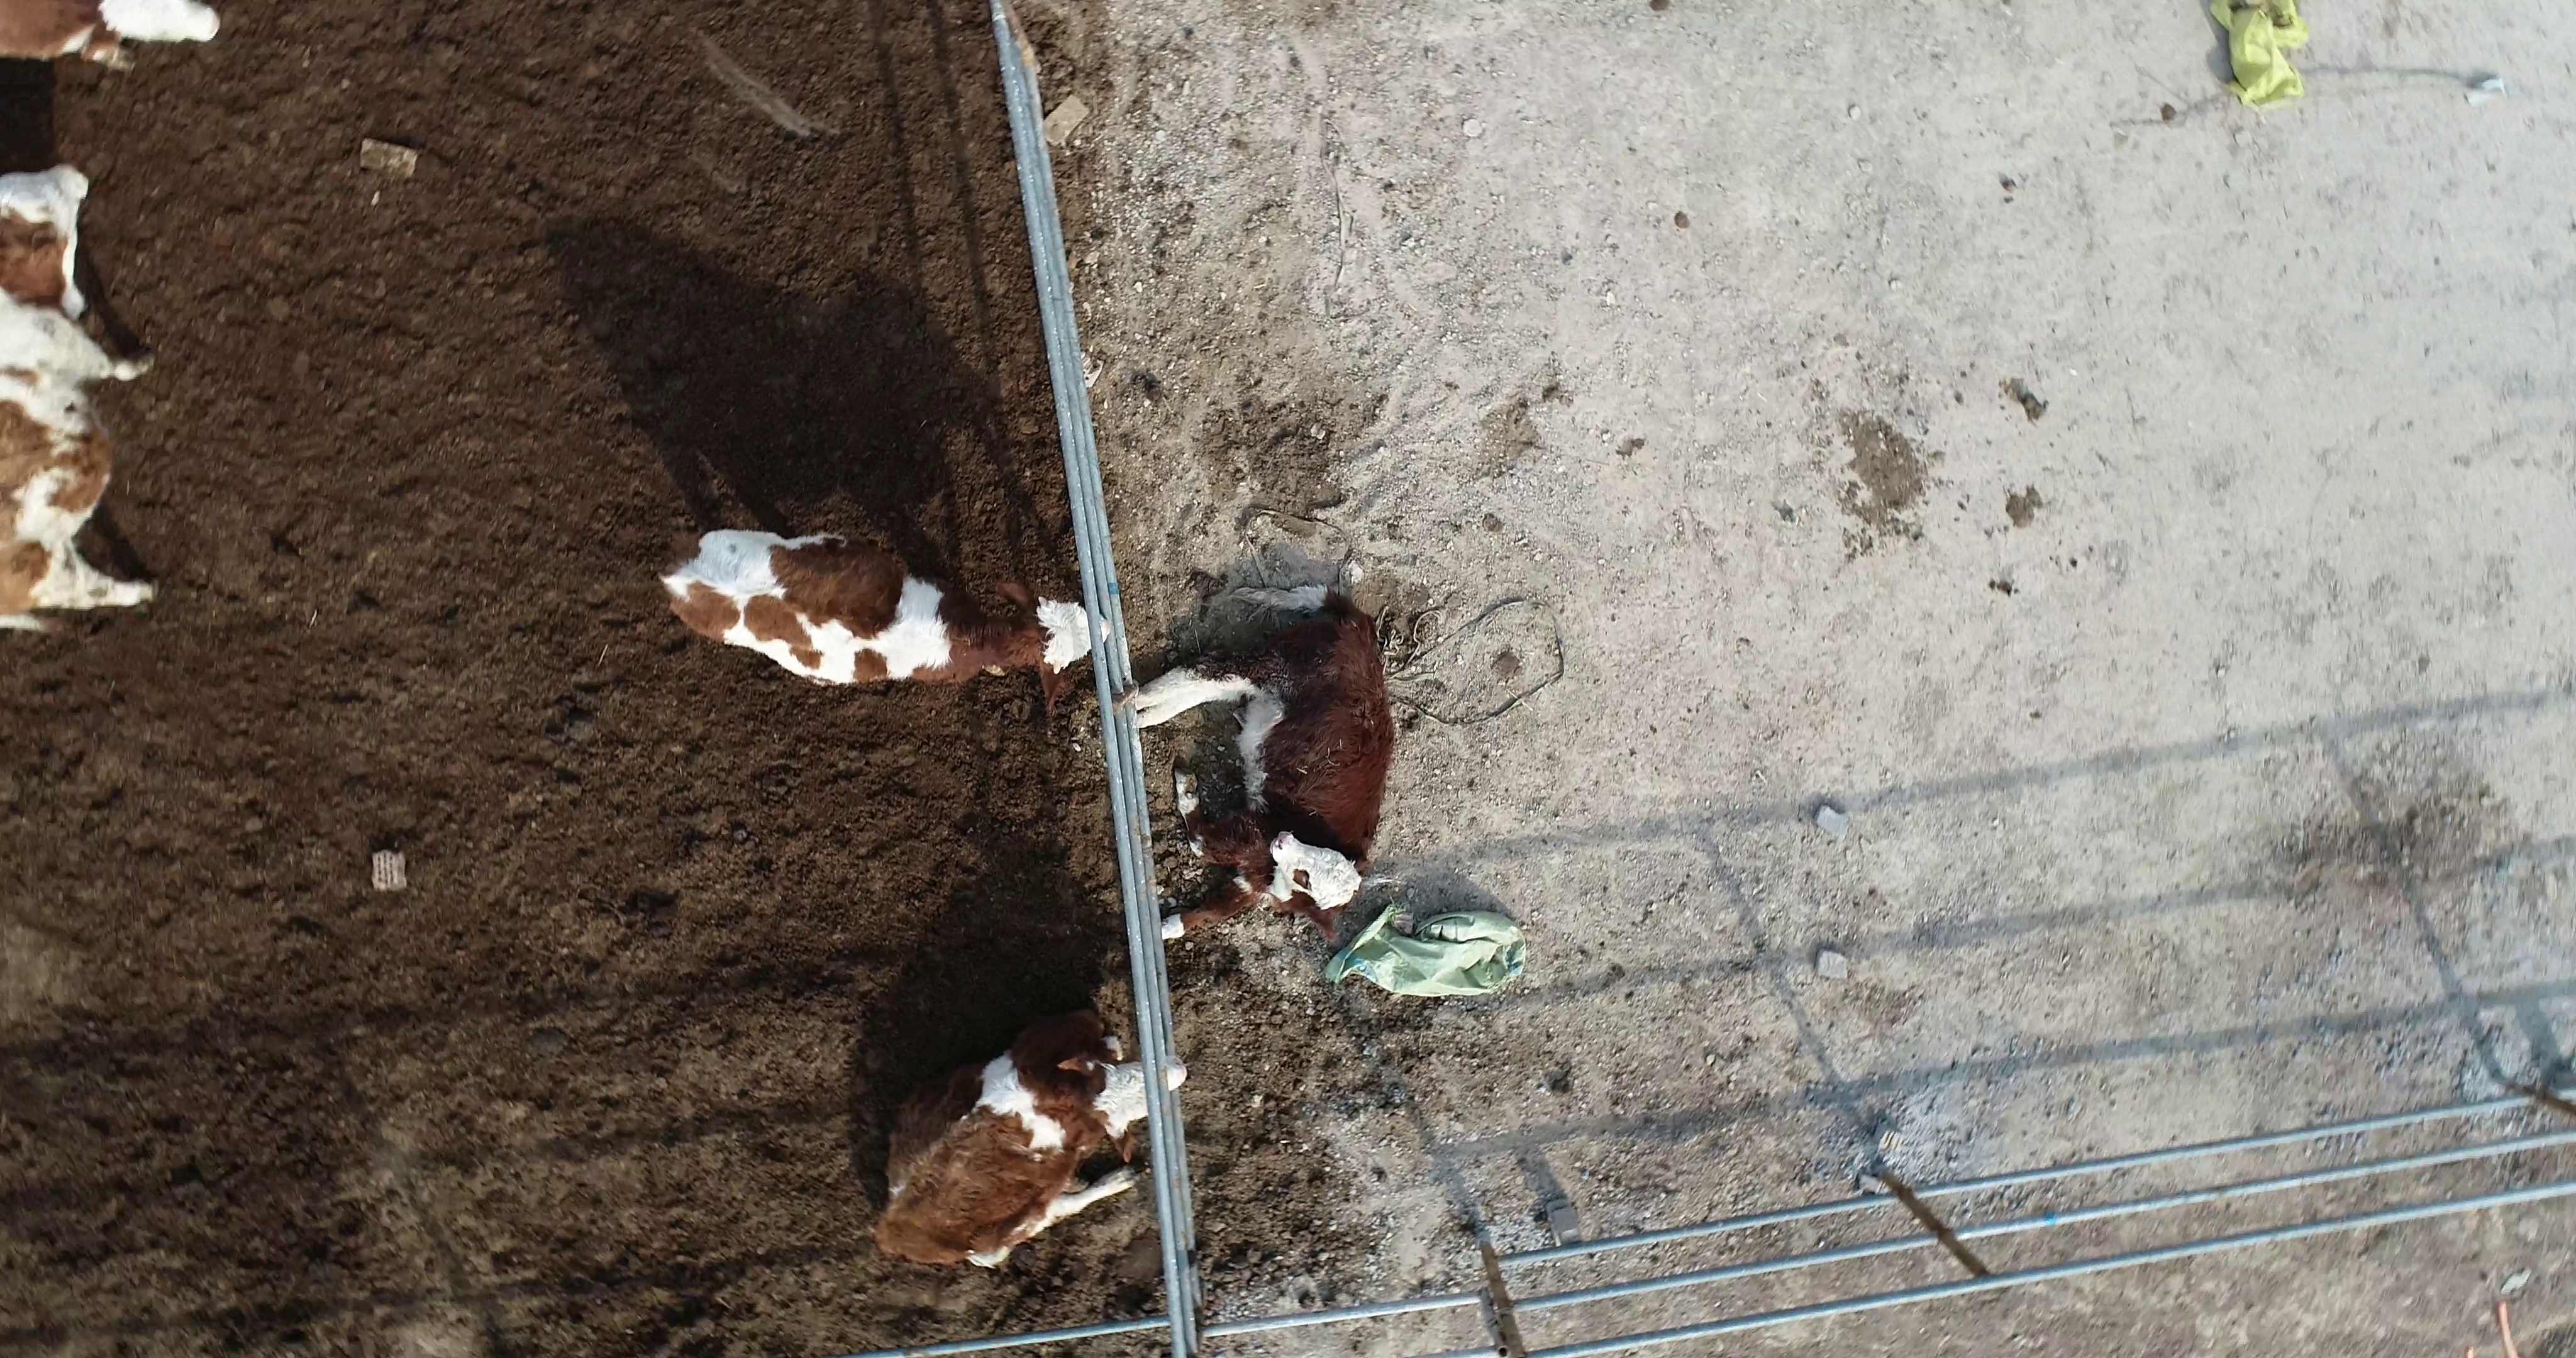cattle: (651, 525, 1116, 692)
